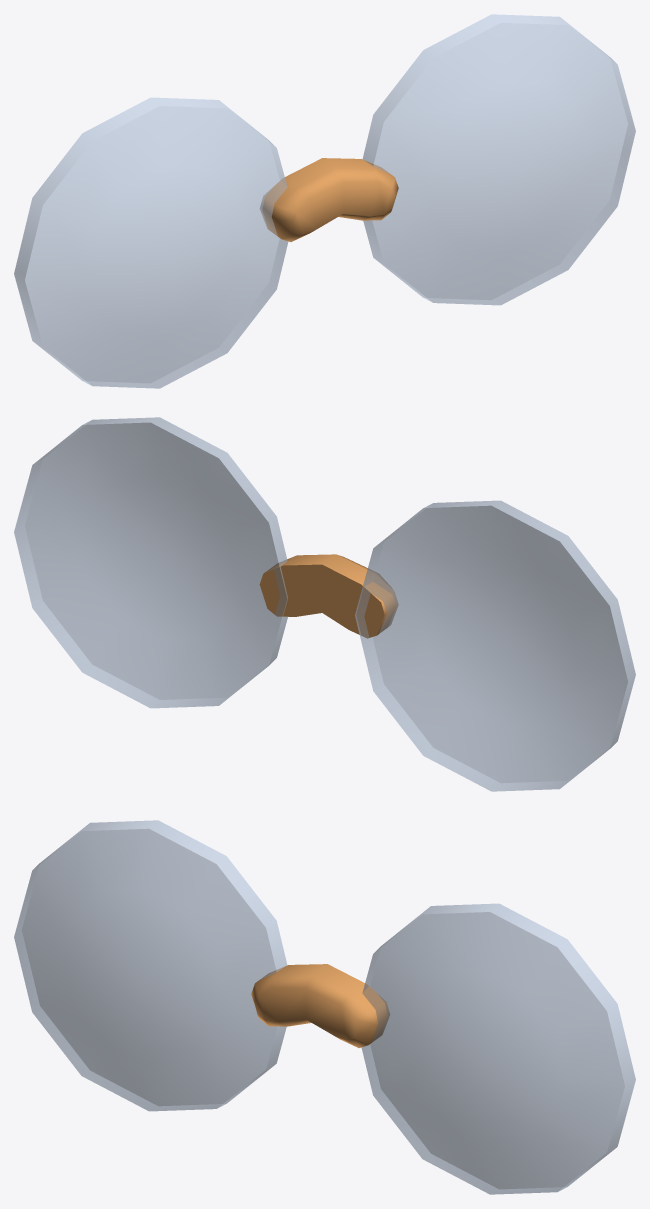
The model's file is Eyewear_2.fbx.
3 renders of one model, top to bottom at view 1: azimuth 30°, elevation 25°; view 2: azimuth 150°, elevation 25°; view 3: azimuth 330°, elevation 25°, orthographic.
Visible parts, largest first — view 1: Eyewear_2; view 2: Eyewear_2; view 3: Eyewear_2.
Part boxes in pixels (<box>): Eyewear_2: <box>14,14,635,388</box>; Eyewear_2: <box>14,417,635,791</box>; Eyewear_2: <box>14,820,635,1194</box>.
Size of the model in its own units: 45.07 by 20.05 by 2.94.
